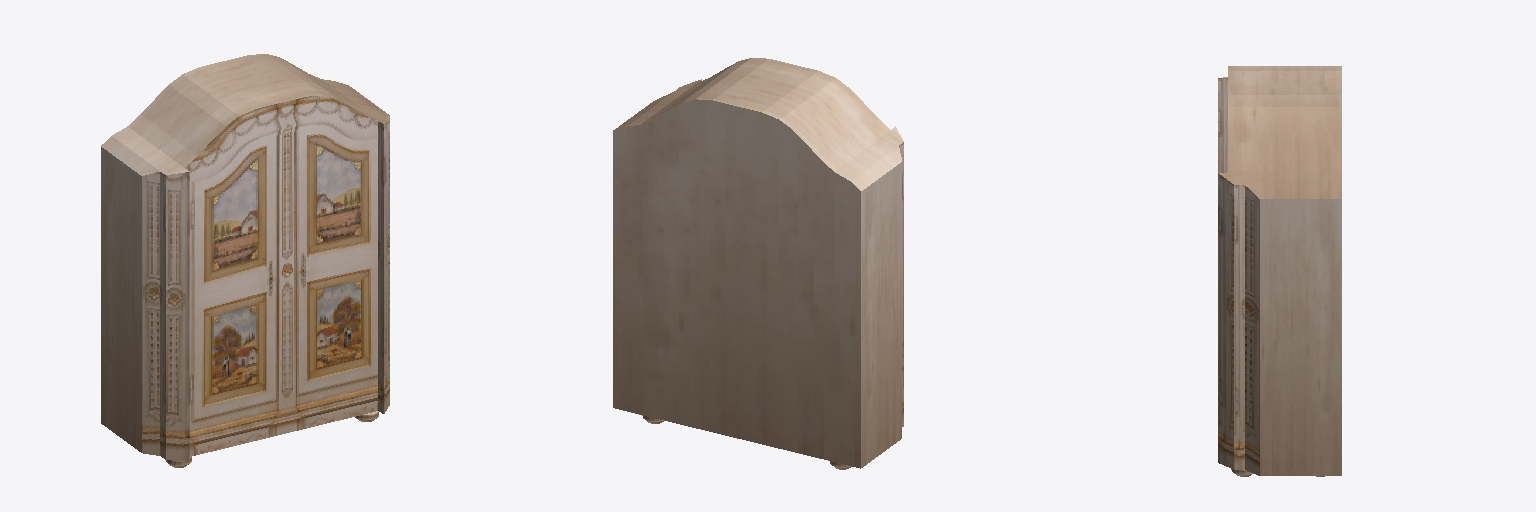
3 renders of one model, left to right at view 1: azimuth 30°, elevation 25°; view 2: azimuth 150°, elevation 25°; view 3: azimuth 270°, elevation 25°, orthographic.
Visible parts, largest first — view 1: furniture6; view 2: furniture6; view 3: furniture6.
Part boxes in pixels (x1,y1,x2,y2): furniture6: (101, 54, 389, 467); furniture6: (613, 58, 903, 469); furniture6: (1218, 66, 1341, 476).
Bounding box in the file's own units: 1.61 × 2.14 × 0.699.
1 materials, 1 textured.